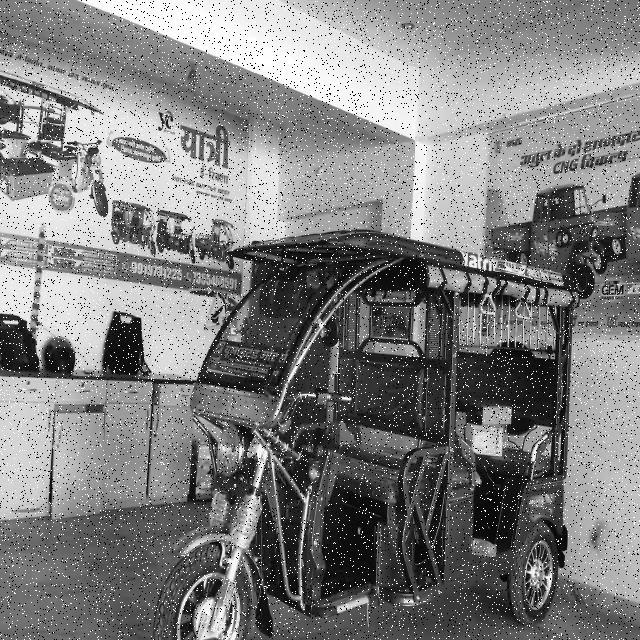Toto: (147, 218, 576, 640)
